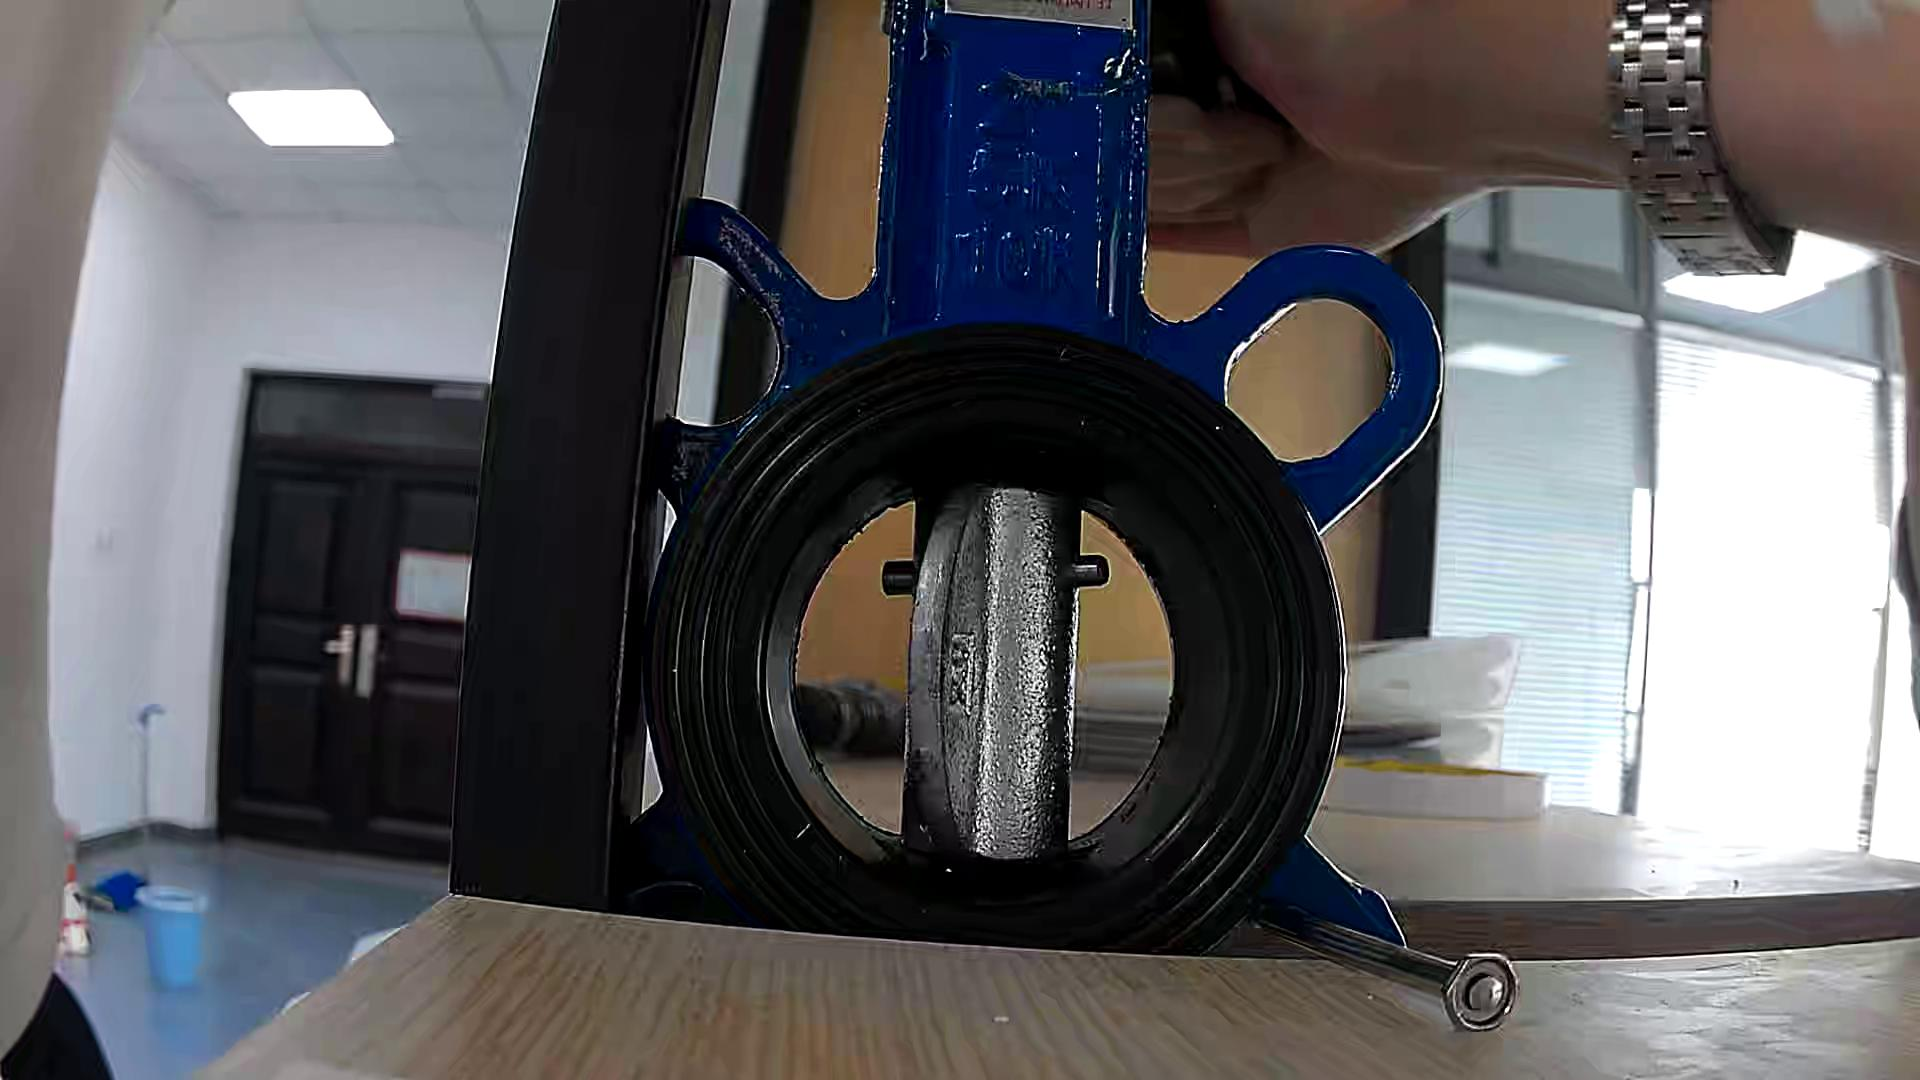valve: (882, 484, 1110, 859)
